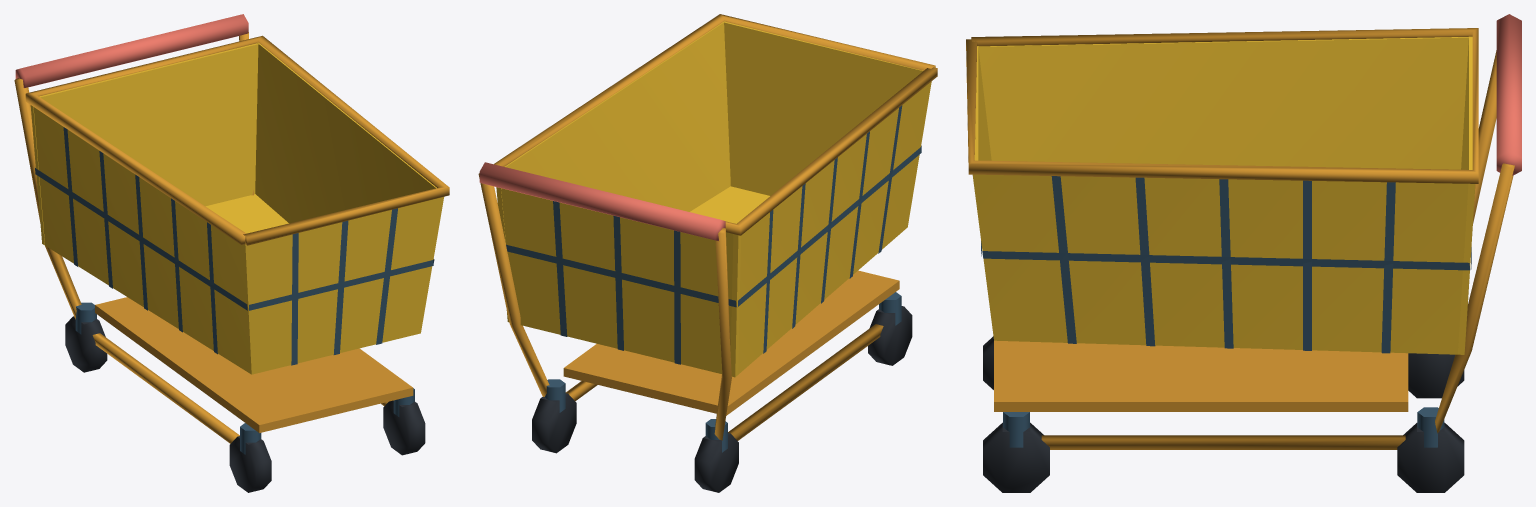
The model's file is CM_Event_GoldenCart.fbx.
The picture shows the model from 3 angles, left to right: view 1: azimuth 30°, elevation 25°; view 2: azimuth 150°, elevation 25°; view 3: azimuth 270°, elevation 25°; orthographic projection. The views are drawn at different scales.
Parts seen in each view (by area): view 1: Body; view 2: Body; view 3: Body.
Part boxes in pixels (left/top/right/bottom): Body: left=14, top=14, right=449, bottom=492; Body: left=478, top=14, right=937, bottom=492; Body: left=966, top=14, right=1521, bottom=492.
Bounding box in the file's own units: 3.08 × 4.96 × 3.53.
Materials: 1 (1 with a texture image).
